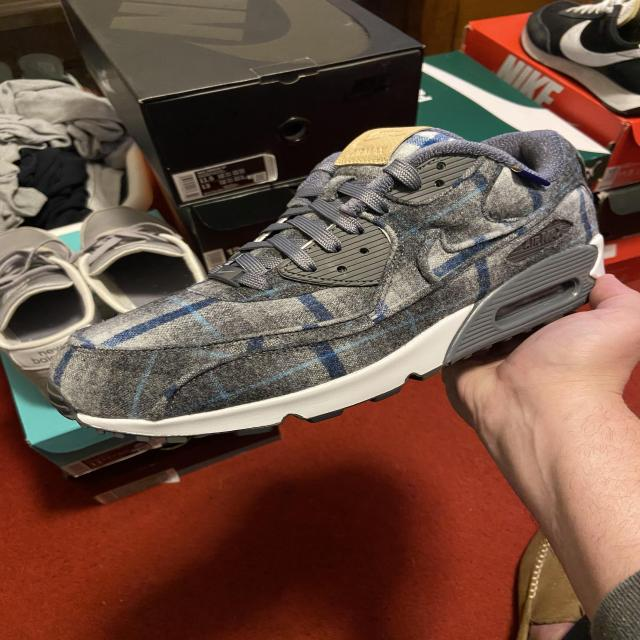shoe: (41, 119, 614, 444)
